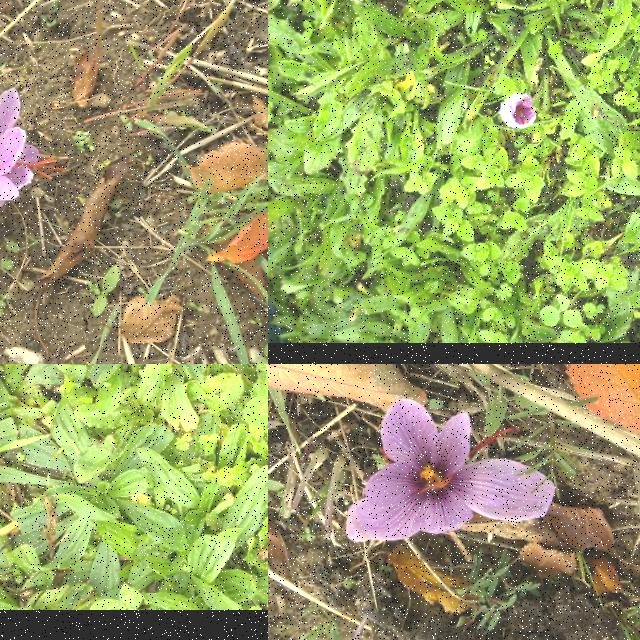flower: (345, 398, 555, 542), (501, 94, 537, 128)
overlap: (0, 88, 66, 263)
